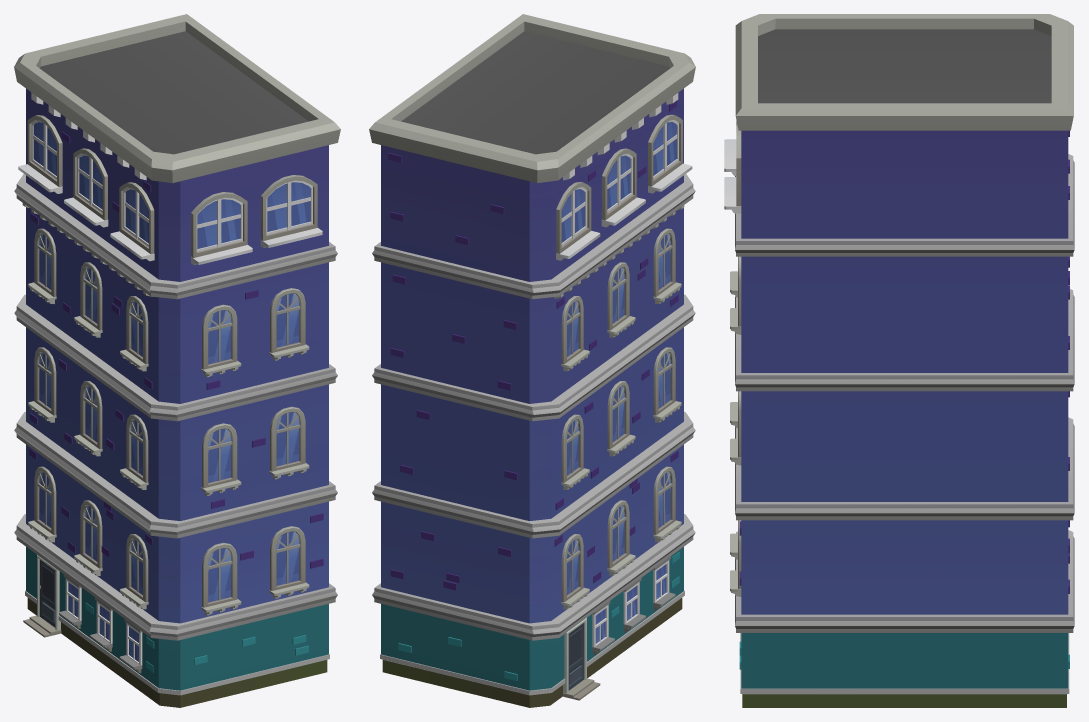
Rendered from Building_18_1_C.fbx.
3 views of the same model, side by side, from view 1: azimuth 30°, elevation 25°; view 2: azimuth 150°, elevation 25°; view 3: azimuth 270°, elevation 25° (orthographic). The views are drawn at different scales.
Visible parts, largest first — view 1: Building_18_1_C; view 2: Building_18_1_C; view 3: Building_18_1_C.
Part boxes in pixels (x1,y1,x2,y2): Building_18_1_C: (14, 14, 340, 707); Building_18_1_C: (369, 14, 695, 707); Building_18_1_C: (724, 14, 1074, 707).
Size of the model in its own units: 719 by 2014 by 1059.
